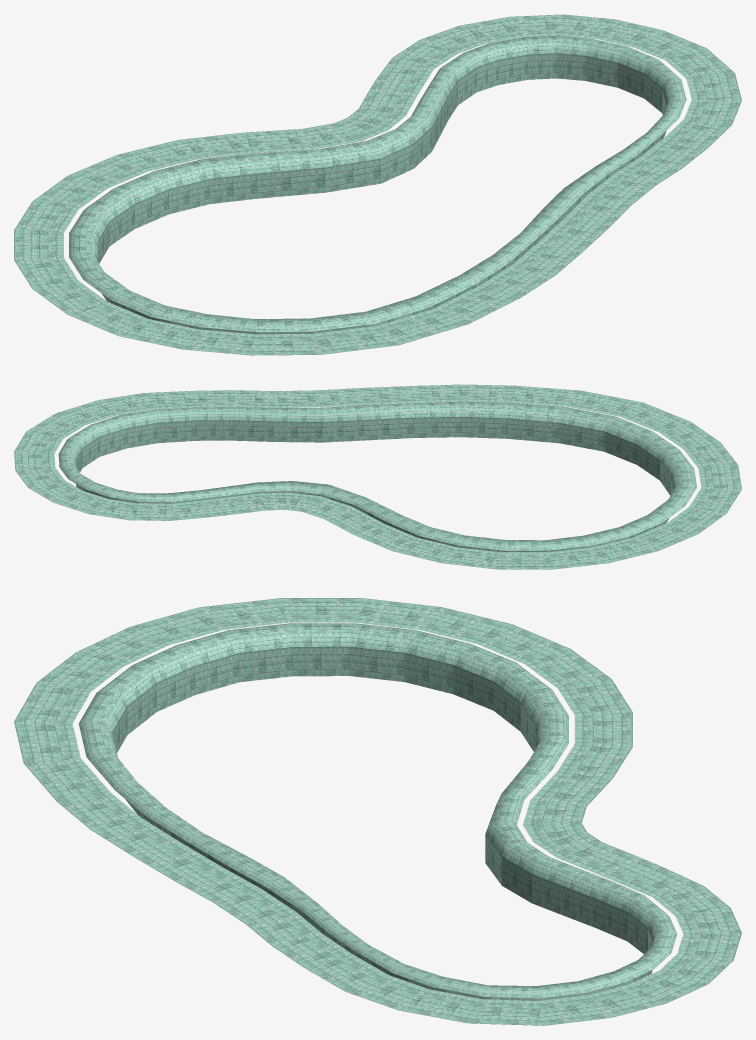
Rendered from FP_jog_island.md.035.obj.
3 renders of one model, top to bottom at view 1: azimuth 30°, elevation 25°; view 2: azimuth 150°, elevation 25°; view 3: azimuth 270°, elevation 25°, orthographic. The views are drawn at different scales.
Parts seen in each view (by area): view 1: FP_jog_island.mo.035; view 2: FP_jog_island.mo.035; view 3: FP_jog_island.mo.035.
Boxes of the visible parts, x1,y1,x2,y2 form: FP_jog_island.mo.035: (14, 14, 741, 355); FP_jog_island.mo.035: (14, 384, 741, 569); FP_jog_island.mo.035: (14, 598, 741, 1025).
Bounding box in the file's own units: 5.22 × 0.2323 × 3.76.
1 material, 1 textured.
